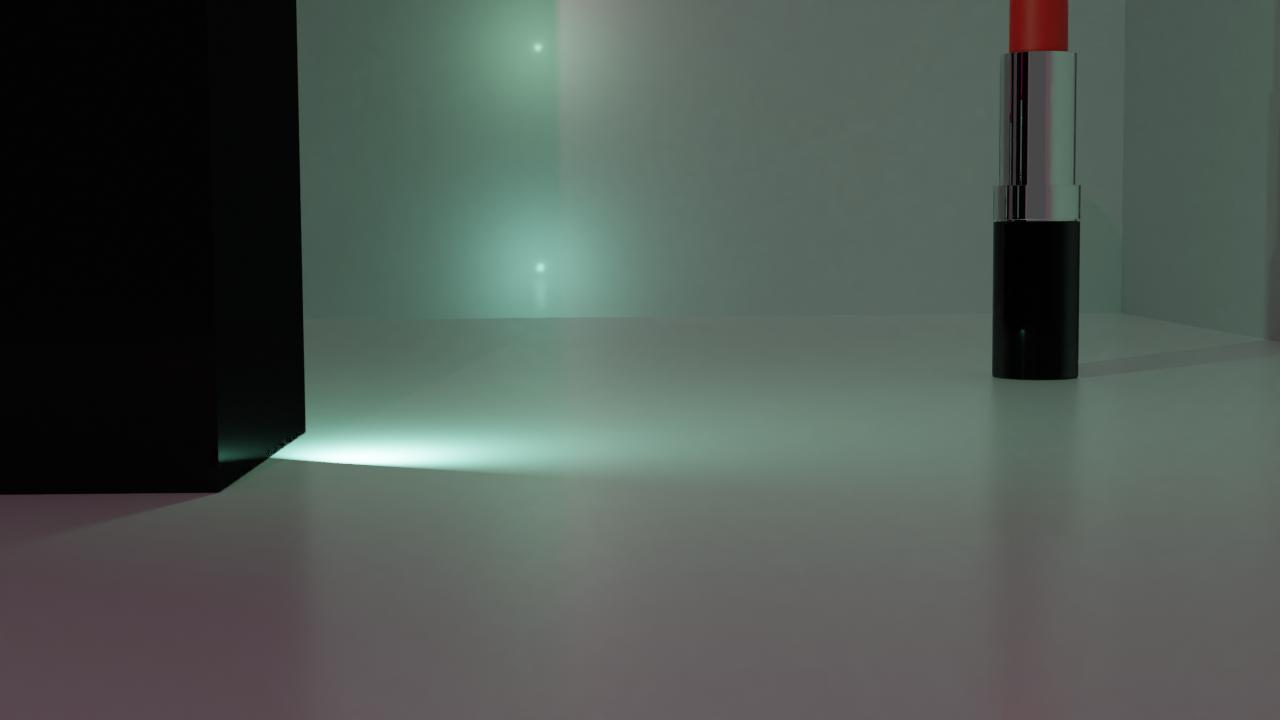CLASSIFIER_NAME: (990, 0, 1083, 380)
